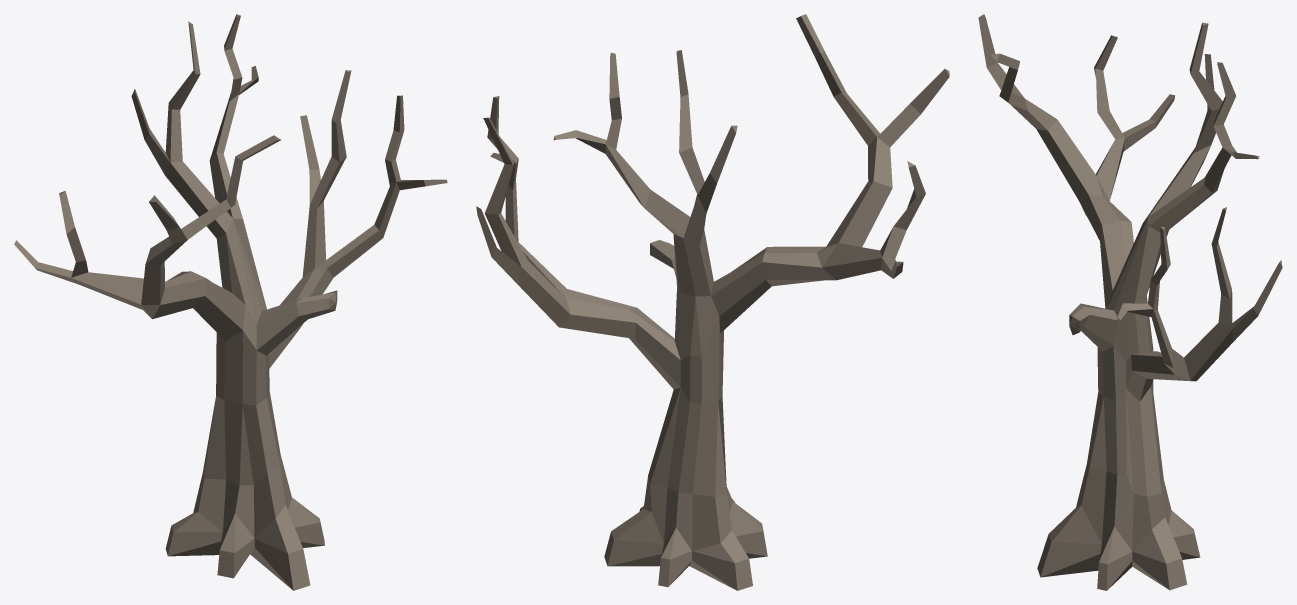
File: SM_Env_Tree_Dead_03.fbx
The picture shows the model from 3 angles, left to right: view 1: azimuth 30°, elevation 25°; view 2: azimuth 150°, elevation 25°; view 3: azimuth 270°, elevation 25°; orthographic projection. The views are drawn at different scales.
Visible parts, largest first — view 1: SM_Env_Tree_Dead_03; view 2: SM_Env_Tree_Dead_03; view 3: SM_Env_Tree_Dead_03.
Part boxes in pixels (box(x1,y1,x2,y2)): SM_Env_Tree_Dead_03: box(14, 14, 447, 590); SM_Env_Tree_Dead_03: box(476, 14, 949, 590); SM_Env_Tree_Dead_03: box(978, 14, 1282, 590).
Size of the model in its own units: 961 by 1155 by 597.
